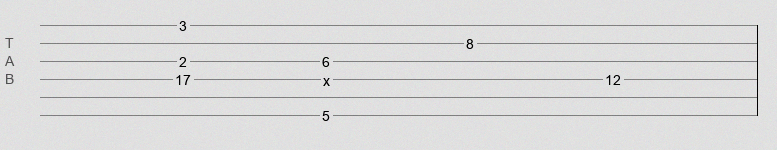12: (605, 72, 621, 82)
17: (175, 72, 191, 82)
2: (179, 54, 187, 64)
3: (179, 18, 187, 28)
5: (322, 108, 330, 118)
6: (322, 54, 330, 64)
8: (466, 36, 474, 46)
x: (323, 73, 330, 81)
